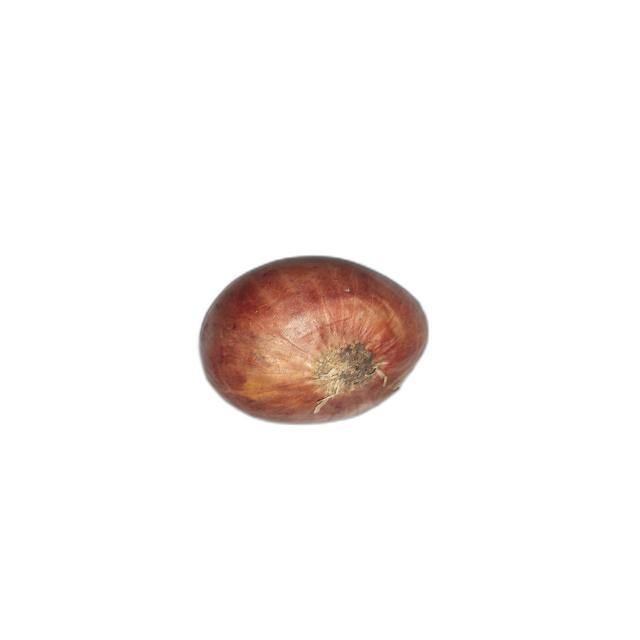onion: (198, 256, 429, 425)
